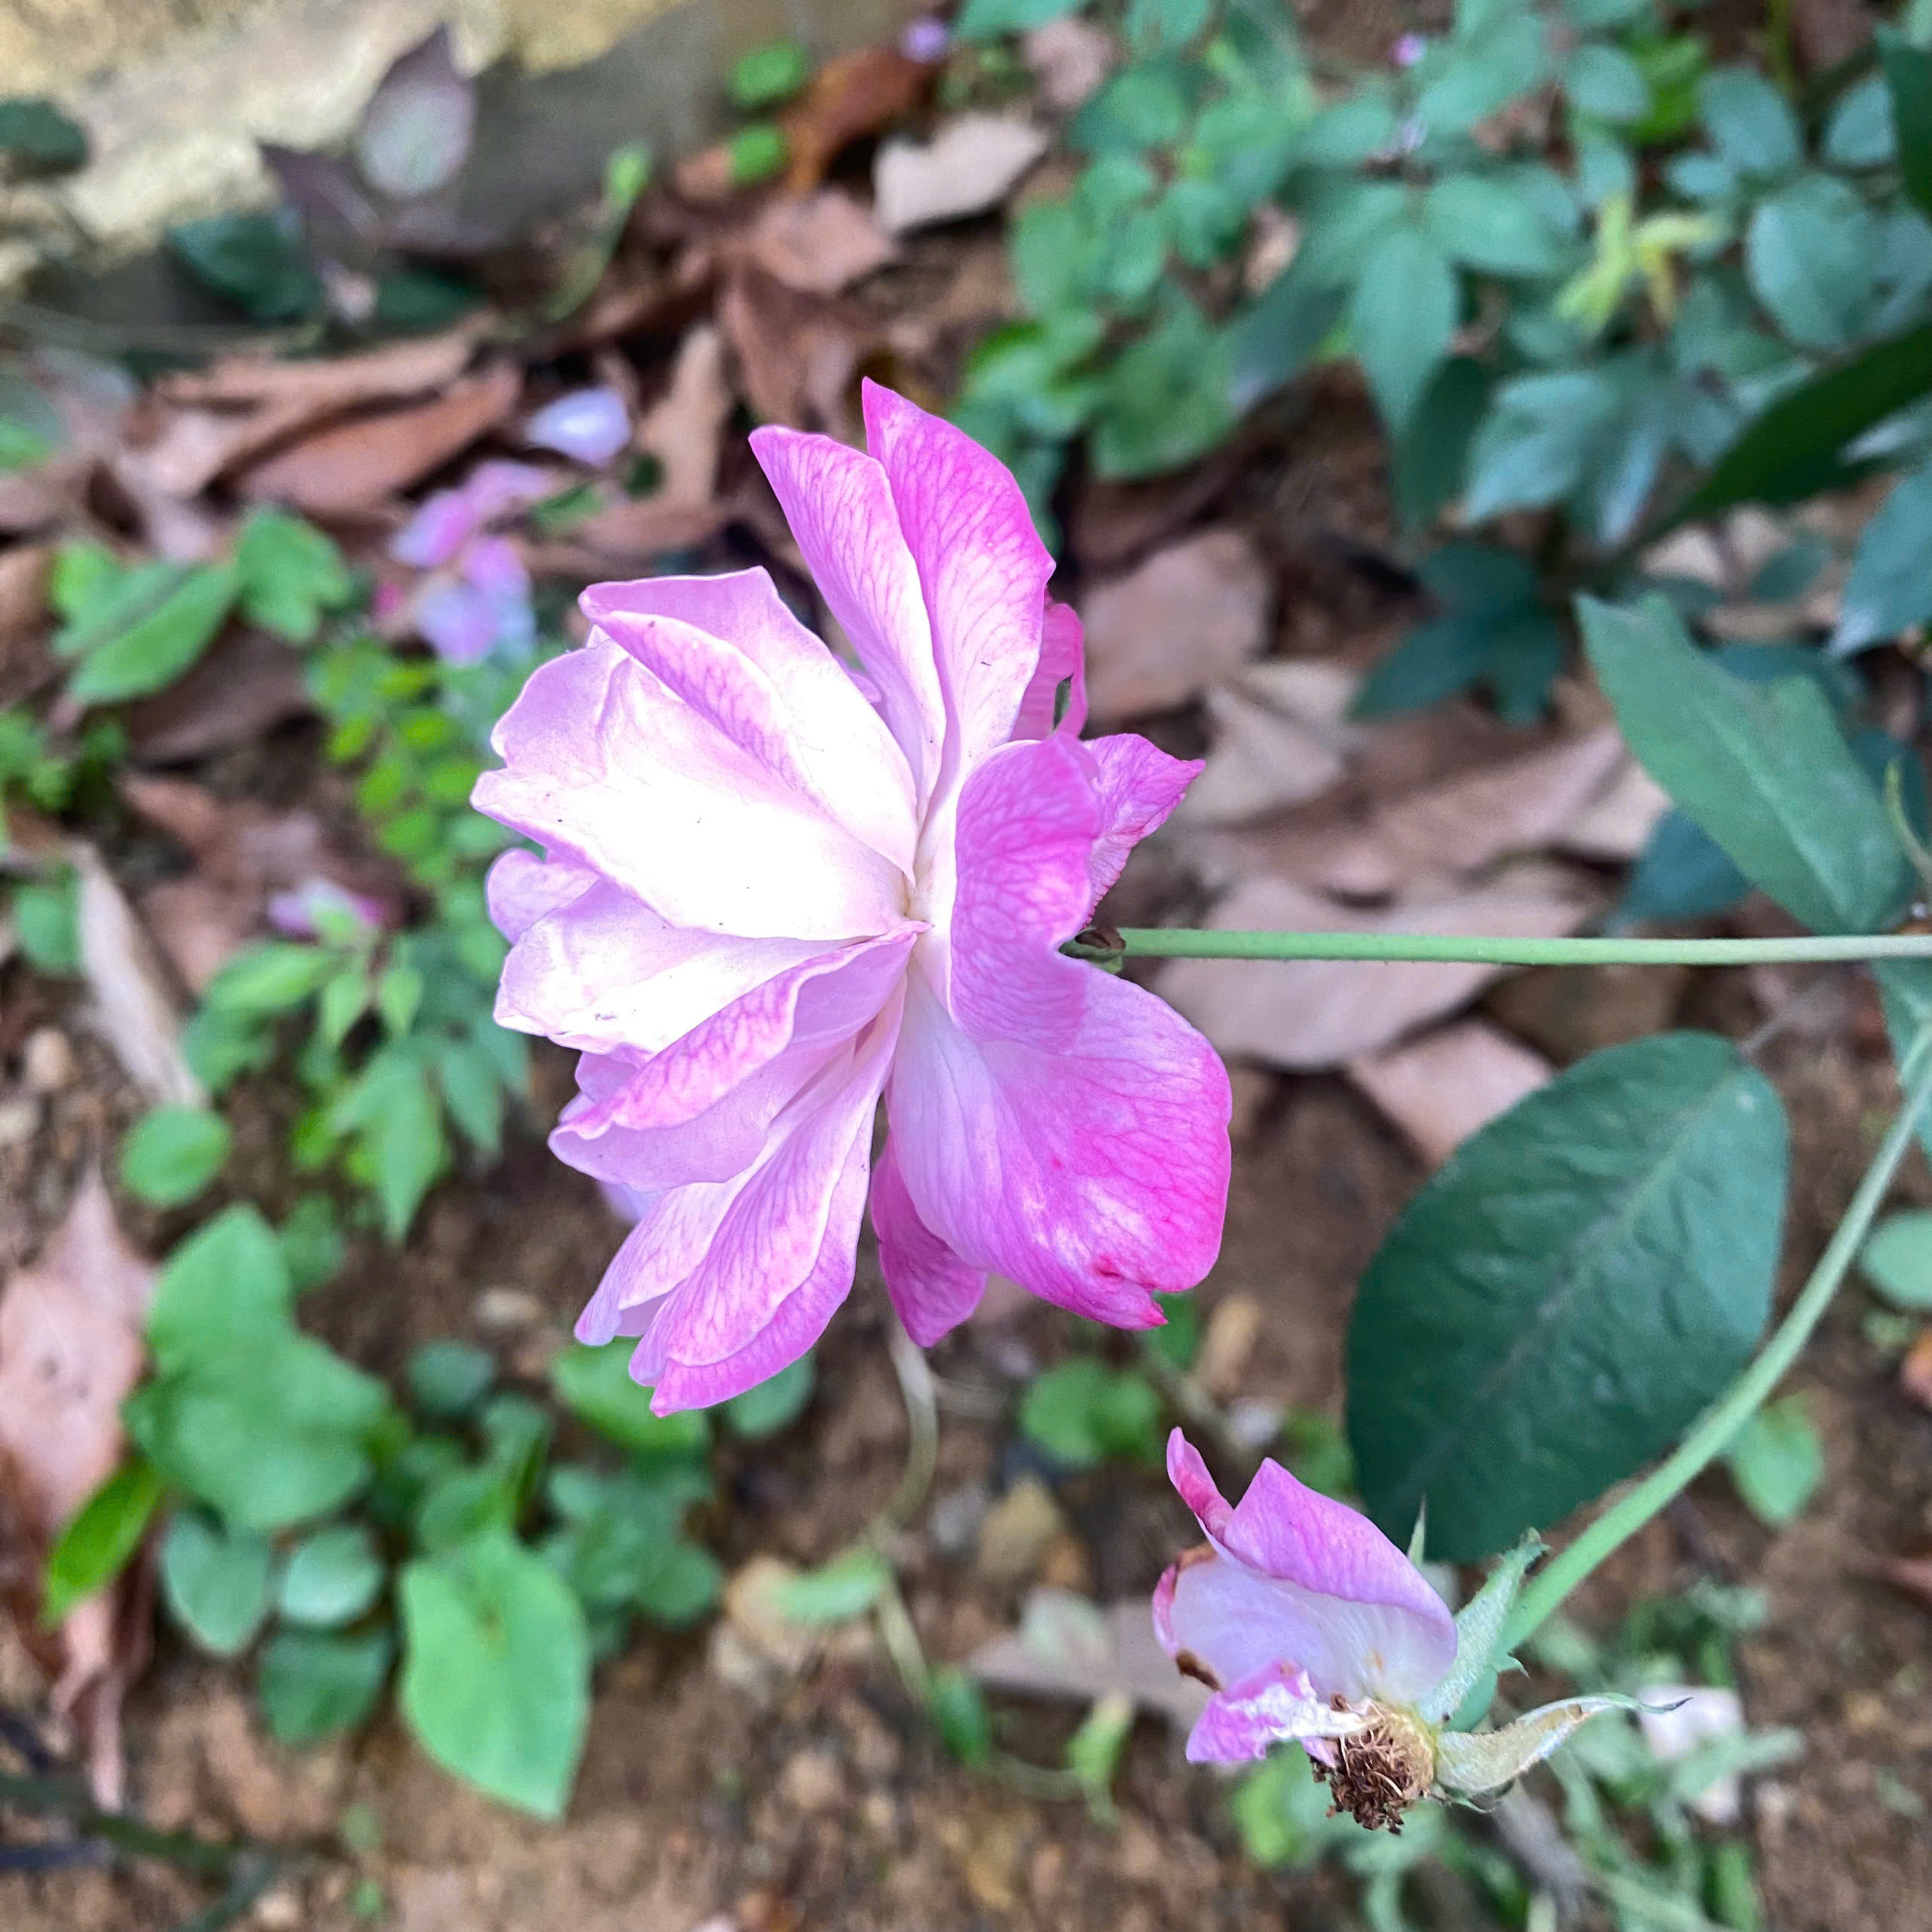hoa_hong_phan: (393, 356, 1932, 1442)
